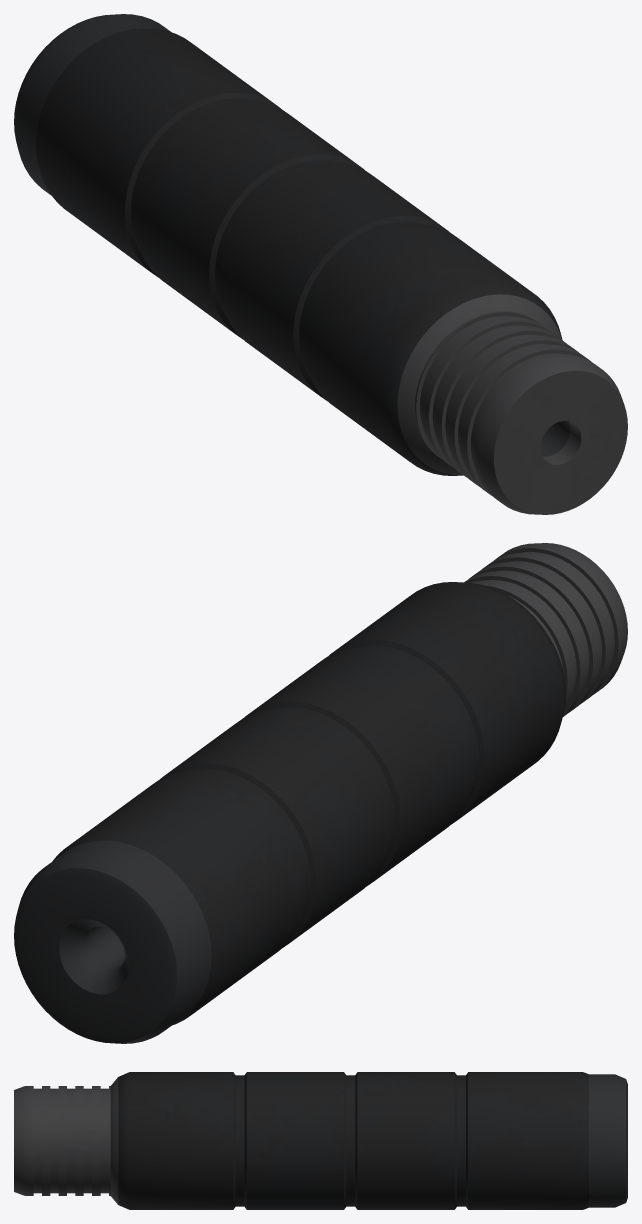
File: SuppAR.glb
3 renders of one model, top to bottom at view 1: azimuth 30°, elevation 25°; view 2: azimuth 150°, elevation 25°; view 3: azimuth 270°, elevation 25°, orthographic. The views are drawn at different scales.
Visible parts, largest first — view 1: SuppAR_Body; view 2: SuppAR_Body; view 3: SuppAR_Body.
Boxes of the visible parts, left/top/right/bottom form: SuppAR_Body: left=14, top=14, right=627, bottom=514; SuppAR_Body: left=14, top=543, right=627, bottom=1043; SuppAR_Body: left=14, top=1072, right=627, bottom=1209.
Size of the model in its own units: 0.037 by 0.037 by 0.165.
Materials: 3 (3 with a texture image).
